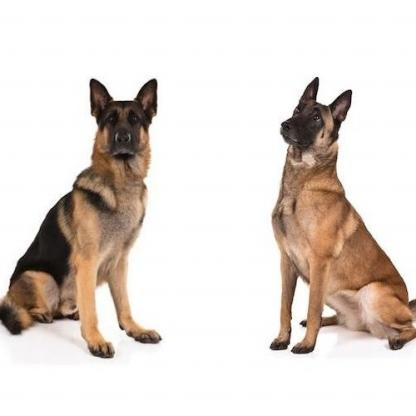german shepherd: (0, 74, 161, 363), (258, 90, 416, 364)
